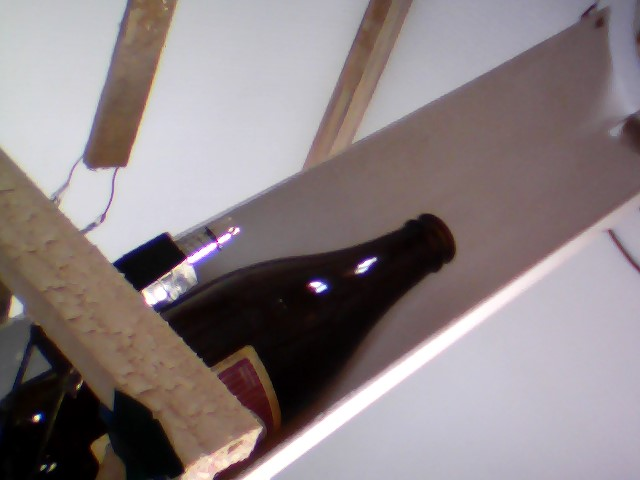vidrio: (197, 205, 466, 440)
